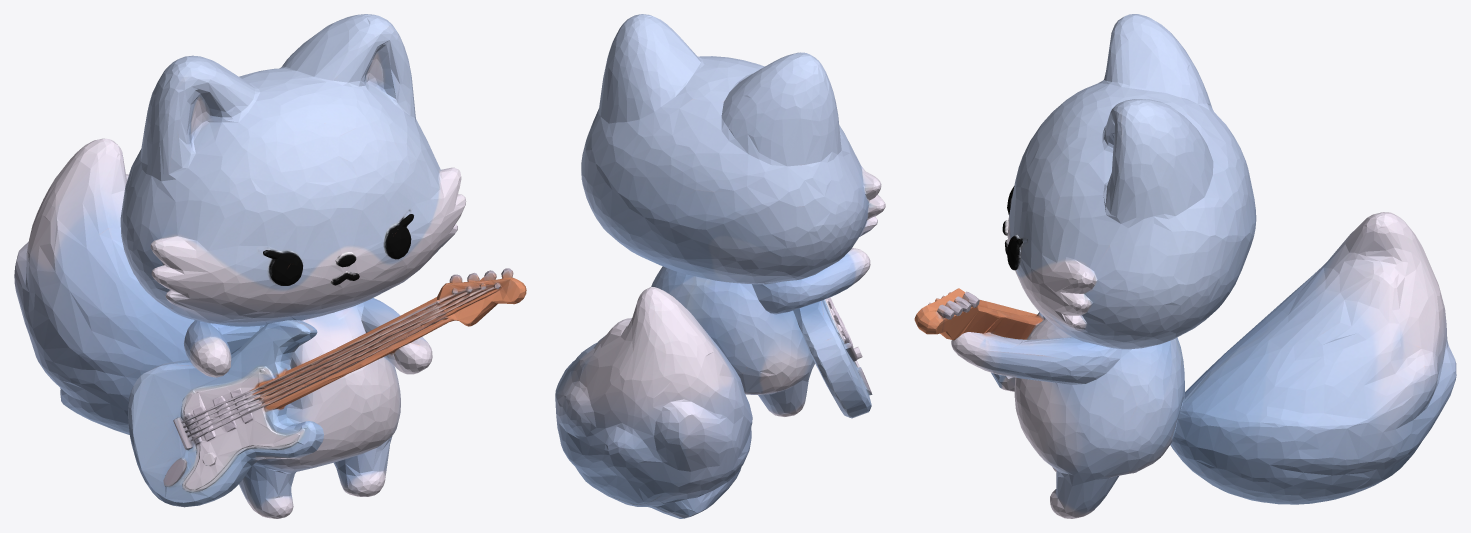
3 renders of one model, left to right at view 1: azimuth 30°, elevation 25°; view 2: azimuth 150°, elevation 25°; view 3: azimuth 270°, elevation 25°, orthographic. The views are drawn at different scales.
Visible parts, largest first — view 1: FurColor, FixedOriginal, FurPaws; view 2: FurColor, FixedOriginal, FurPaws; view 3: FurColor, FixedOriginal, FurPaws.
Part boxes in pixels (x1,y1,x2,y2): FurColor: [14, 14, 443, 434]; FixedOriginal: [15, 51, 526, 507]; FurPaws: [189, 298, 438, 518]; FurColor: [555, 14, 868, 518]; FixedOriginal: [563, 166, 885, 434]; FurPaws: [658, 248, 870, 416]; FurColor: [1008, 14, 1456, 504]; FixedOriginal: [914, 186, 1446, 482]; FurPaws: [967, 332, 1140, 518].
Bounding box in the file's own units: 1.3 × 1.75 × 2.
3 materials, 3 textured.
